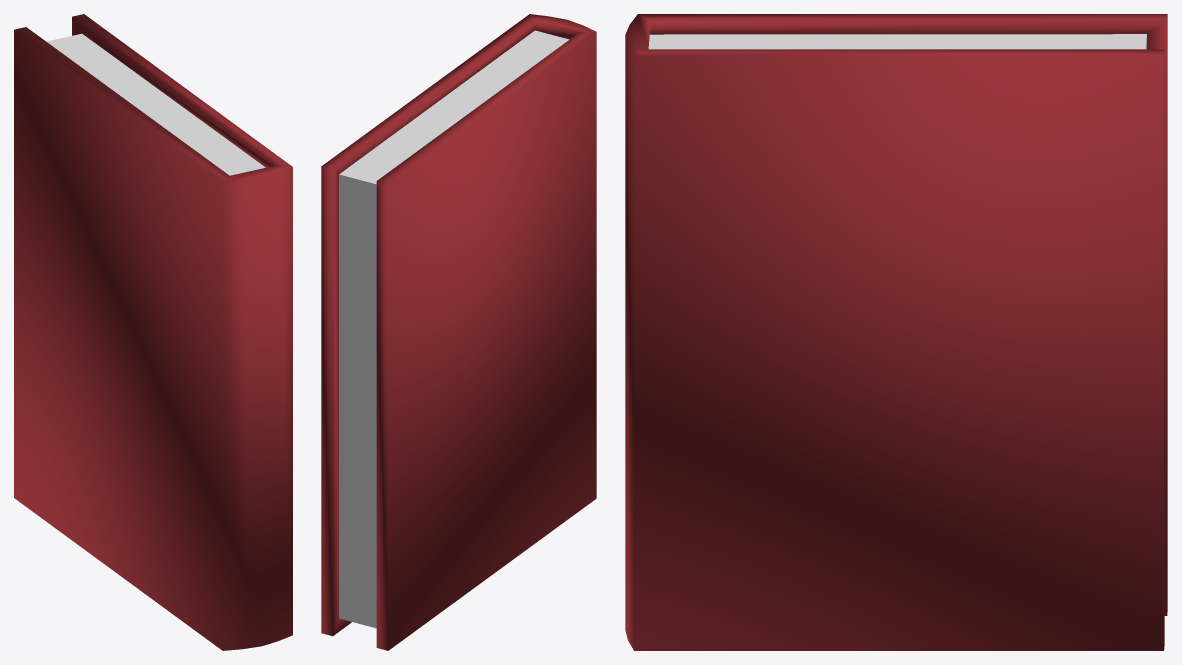
File: Livros 02.fbx
The picture shows the model from 3 angles, left to right: view 1: azimuth 30°, elevation 25°; view 2: azimuth 150°, elevation 25°; view 3: azimuth 270°, elevation 25°; orthographic projection. The views are drawn at different scales.
Parts seen in each view (by area): view 1: Livro; view 2: Livro; view 3: Livro.
Boxes of the visible parts, x1=… form: Livro: x1=14, y1=14, x2=292, y2=650; Livro: x1=321, y1=14, x2=596, y2=650; Livro: x1=625, y1=14, x2=1167, y2=650.
Bounding box in the file's own units: 5.06 × 32.97 × 27.27.
